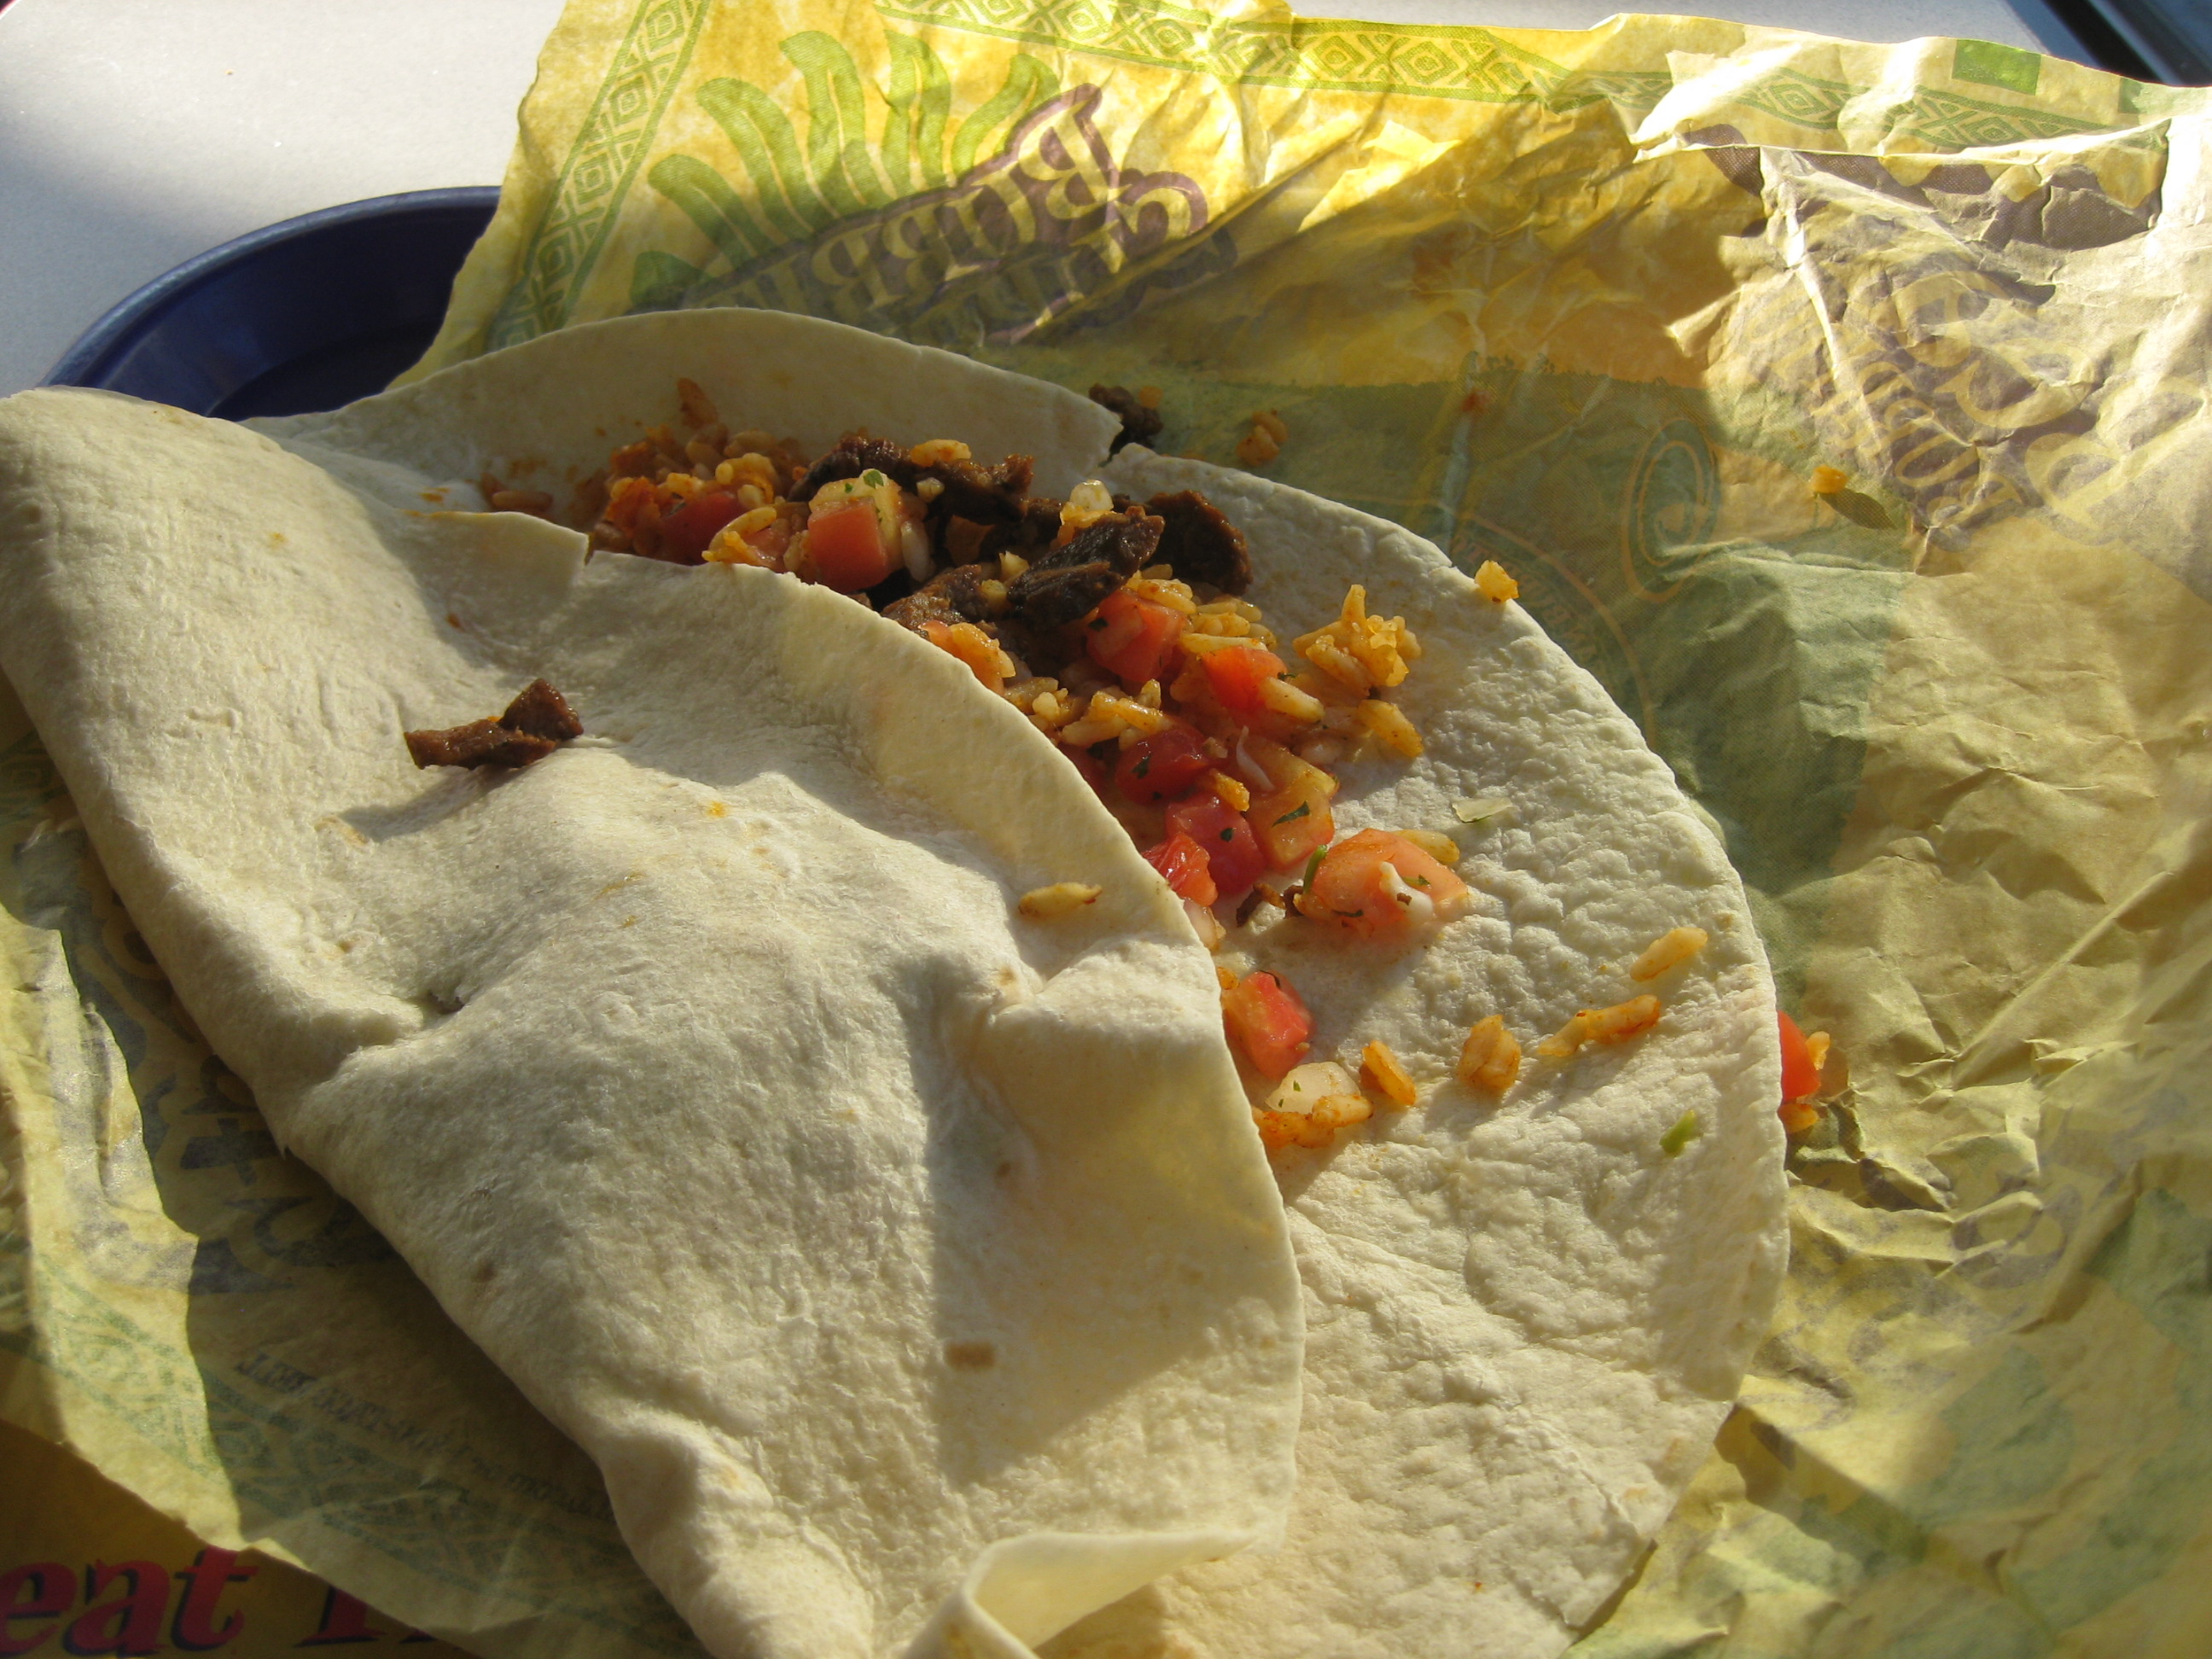taco: (27, 309, 1794, 1633)
